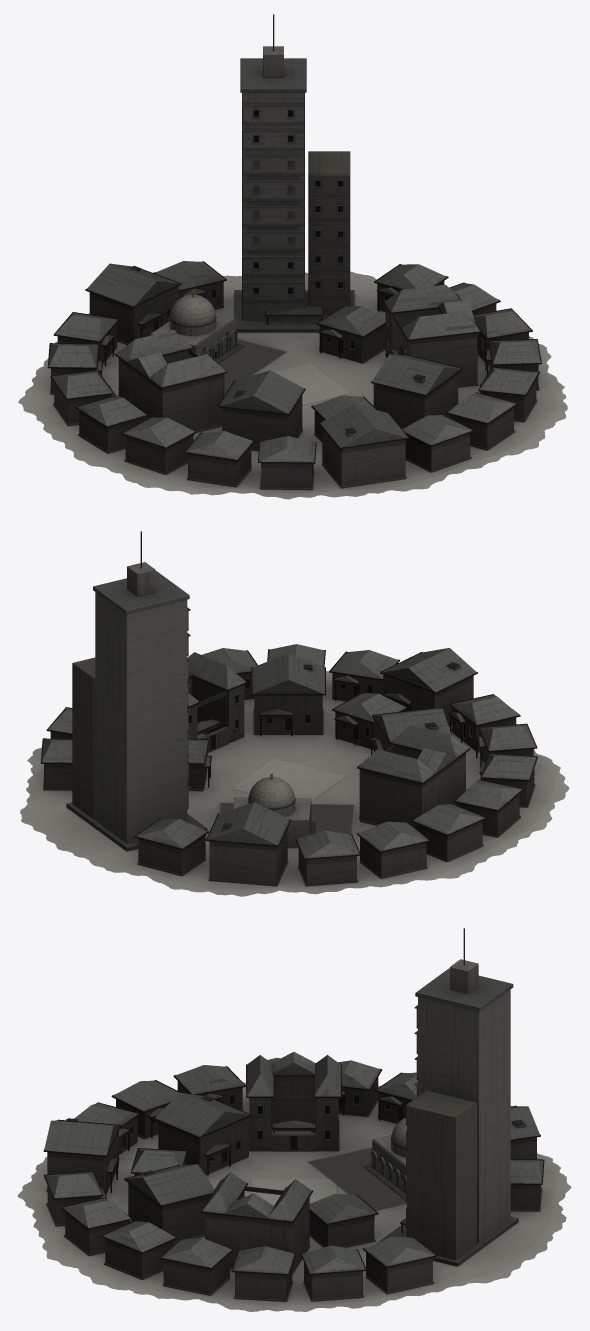
File: modern-town-big-a-westafrica.glb
3 views of the same model, one above another, from view 1: azimuth 30°, elevation 25°; view 2: azimuth 150°, elevation 25°; view 3: azimuth 270°, elevation 25° (orthographic).
Parts seen in each view (by area): view 1: LOD0; view 2: LOD0; view 3: LOD0.
Part boxes in pixels (<box>): LOD0: <box>18,14,567,499</box>; LOD0: <box>20,531,569,896</box>; LOD0: <box>17,928,571,1311</box>.
Size of what is drawn, in the model's own units: 7.93 by 4.7 by 7.94.
3 materials, 3 textured.
